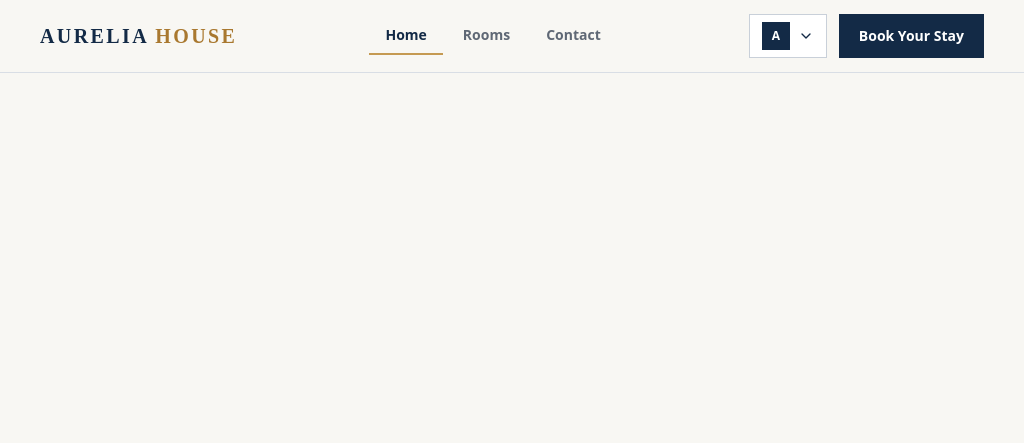
Test case: SiteHeader › replaces sign in with the customer profile menu
Click the button named "open profile menu for aarav.desai@example.com" at x=788, y=36, box [749,14,827,58]
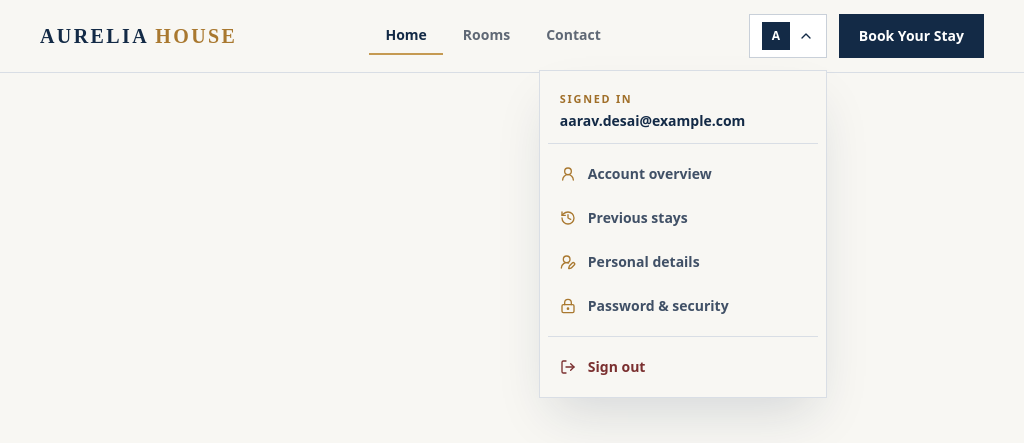
Expected: the menu named "Profile menu" is shown, [539,70,827,398]
Expected: the menu item "Sign out" is shown, [548,345,818,389]
